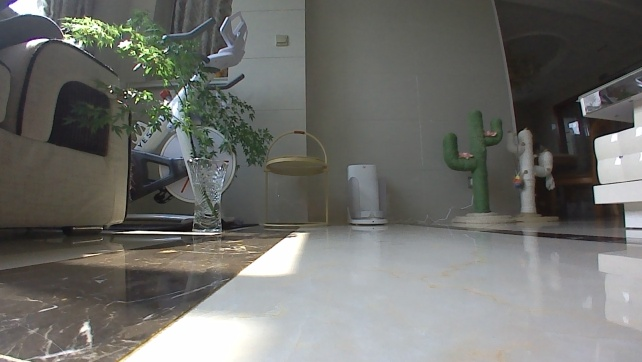sofa1: (0, 10, 133, 236)
wire: (419, 194, 474, 227)
